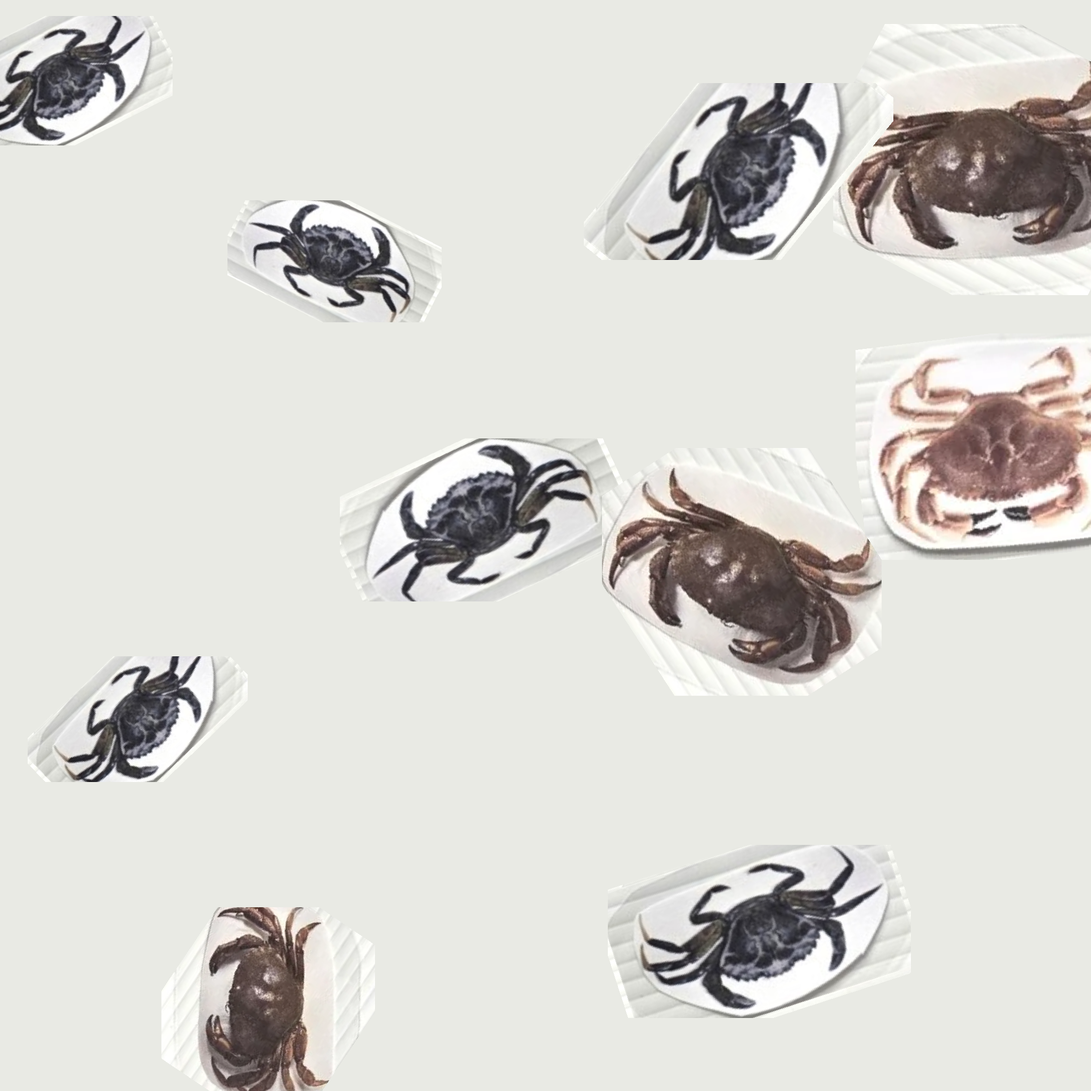evil: (614, 67, 829, 267), (633, 848, 893, 1008), (388, 445, 605, 614), (224, 191, 443, 322), (5, 14, 150, 145), (69, 657, 209, 784)
normal: (614, 455, 876, 686), (881, 343, 1091, 536), (855, 79, 1091, 250), (178, 895, 350, 1091)
